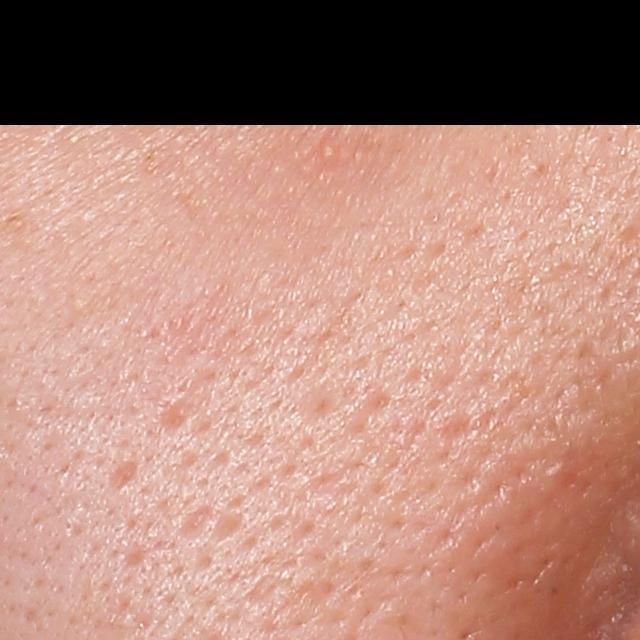atrophic_scar: (150, 389, 191, 443), (174, 497, 214, 537), (212, 507, 249, 542), (105, 460, 137, 489)
